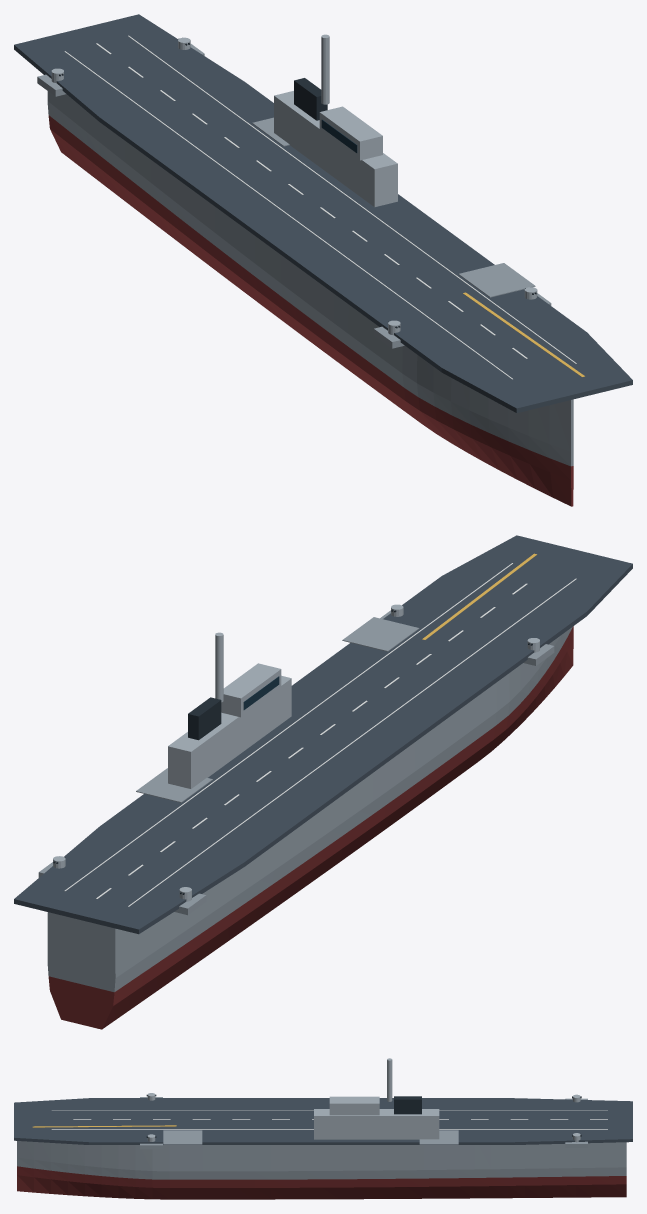
File: ran_cvl_endeavour_1944.obj
3 renders of one model, top to bottom at view 1: azimuth 30°, elevation 25°; view 2: azimuth 150°, elevation 25°; view 3: azimuth 270°, elevation 25°, orthographic. The views are drawn at different scales.
Parts seen in each view (by area): view 1: FlightDeck, Hull, UnderwaterHull, Island, Bridge, Elevator_1, Funnel, LandingEdge_1, LandingEdge_-1; view 2: FlightDeck, Hull, UnderwaterHull, Island, Bridge, Elevator_1, Funnel, Elevator_2, LandingEdge_1, LandingEdge_-1; view 3: FlightDeck, Hull, UnderwaterHull, Island, Bridge, Elevator_1, Funnel, LandingEdge_1, LandingEdge_-1, Elevator_2, Mast, Catapult_1.
Boxes of the visible parts, box(x1,y1,x2,y2) form: FlightDeck: box(14, 14, 632, 412); Hull: box(47, 91, 573, 466); UnderwaterHull: box(48, 115, 573, 506); Island: box(274, 91, 397, 207); Bridge: box(319, 106, 382, 160); Elevator_1: box(458, 263, 535, 297); Funnel: box(294, 78, 327, 120); LandingEdge_1: box(128, 35, 576, 363); LandingEdge_-1: box(64, 51, 512, 379); FlightDeck: box(14, 535, 632, 934); Hull: box(47, 627, 572, 992); UnderwaterHull: box(48, 626, 573, 1029); Island: box(168, 675, 291, 788); Bridge: box(221, 663, 281, 717); Elevator_1: box(342, 617, 419, 651); Funnel: box(188, 697, 221, 740); Elevator_2: box(136, 768, 212, 802); LandingEdge_1: box(64, 563, 512, 891); LandingEdge_-1: box(128, 578, 576, 906); FlightDeck: box(14, 1098, 632, 1144); Hull: box(17, 1141, 626, 1179); UnderwaterHull: box(17, 1166, 626, 1199); Island: box(314, 1109, 439, 1139); Bridge: box(329, 1096, 379, 1115); Elevator_1: box(163, 1130, 202, 1144); Funnel: box(394, 1096, 421, 1114); LandingEdge_1: box(51, 1129, 607, 1129); LandingEdge_-1: box(52, 1110, 607, 1110); Elevator_2: box(419, 1130, 458, 1144); Mast: box(387, 1058, 392, 1101); Catapult_1: box(32, 1125, 176, 1127).
Bounding box in the file's own units: 35.66 × 50.5 × 190.
